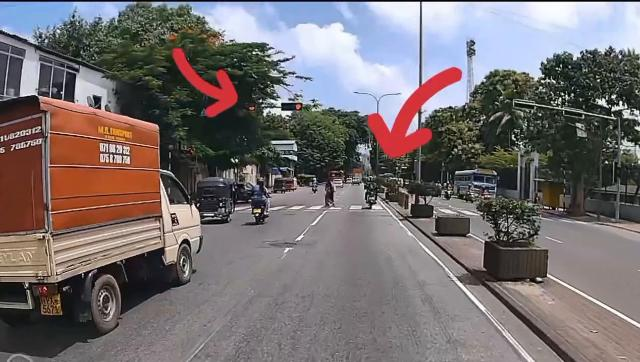red light violation: (363, 174, 384, 211)
traffic light red: (279, 101, 303, 116)
